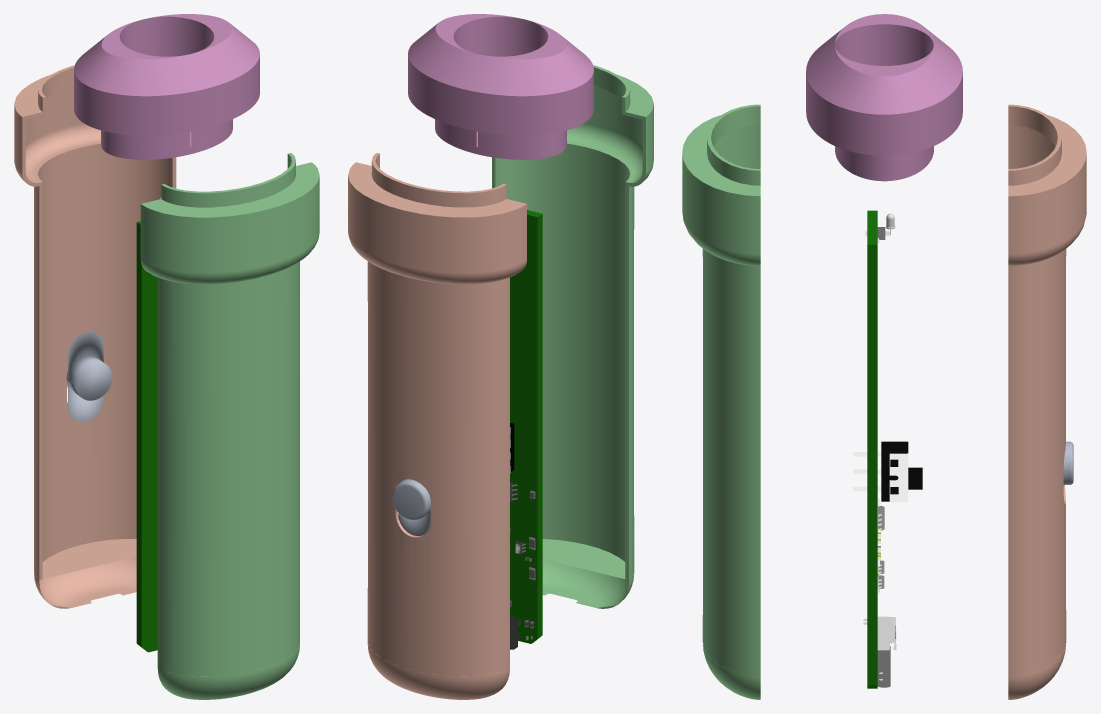
3 views of the same model, side by side, from view 1: azimuth 30°, elevation 25°; view 2: azimuth 150°, elevation 25°; view 3: azimuth 270°, elevation 25° (orthographic). The views are drawn at different scales.
Visible parts, largest first — view 1: FACE_ARRIERE, FACE_AVANT, CHAPEAU_LOUPE, OBJ_PCB_PC_main, BOUTON; view 2: FACE_AVANT, FACE_ARRIERE, CHAPEAU_LOUPE, OBJ_PCB_PC_main, BOUTON; view 3: FACE_ARRIERE, FACE_AVANT, CHAPEAU_LOUPE, OBJ_PCB_PC_main, OBJ_PCB_PC_main.044, OBJ_PCB_PC_main.045.
Boxes of the visible parts, x1=… form: FACE_ARRIERE: x1=140, y1=153, x2=319, y2=699; FACE_AVANT: x1=14, y1=65, x2=176, y2=608; CHAPEAU_LOUPE: x1=74, y1=14, x2=259, y2=159; OBJ_PCB_PC_main: x1=136, y1=221, x2=157, y2=652; BOUTON: x1=66, y1=331, x2=112, y2=422; FACE_AVANT: x1=348, y1=153, x2=526, y2=699; FACE_ARRIERE: x1=492, y1=65, x2=653, y2=608; CHAPEAU_LOUPE: x1=408, y1=14, x2=593, y2=159; OBJ_PCB_PC_main: x1=510, y1=210, x2=542, y2=643; BOUTON: x1=392, y1=479, x2=430, y2=535; FACE_ARRIERE: x1=682, y1=104, x2=760, y2=699; FACE_AVANT: x1=1008, y1=104, x2=1086, y2=699; CHAPEAU_LOUPE: x1=806, y1=14, x2=962, y2=181; OBJ_PCB_PC_main: x1=867, y1=210, x2=877, y2=688; OBJ_PCB_PC_main.044: x1=853, y1=441, x2=922, y2=502; OBJ_PCB_PC_main.045: x1=863, y1=616, x2=896, y2=650.
Size of the model in its own units: 5.01 by 16.97 by 9.81.
